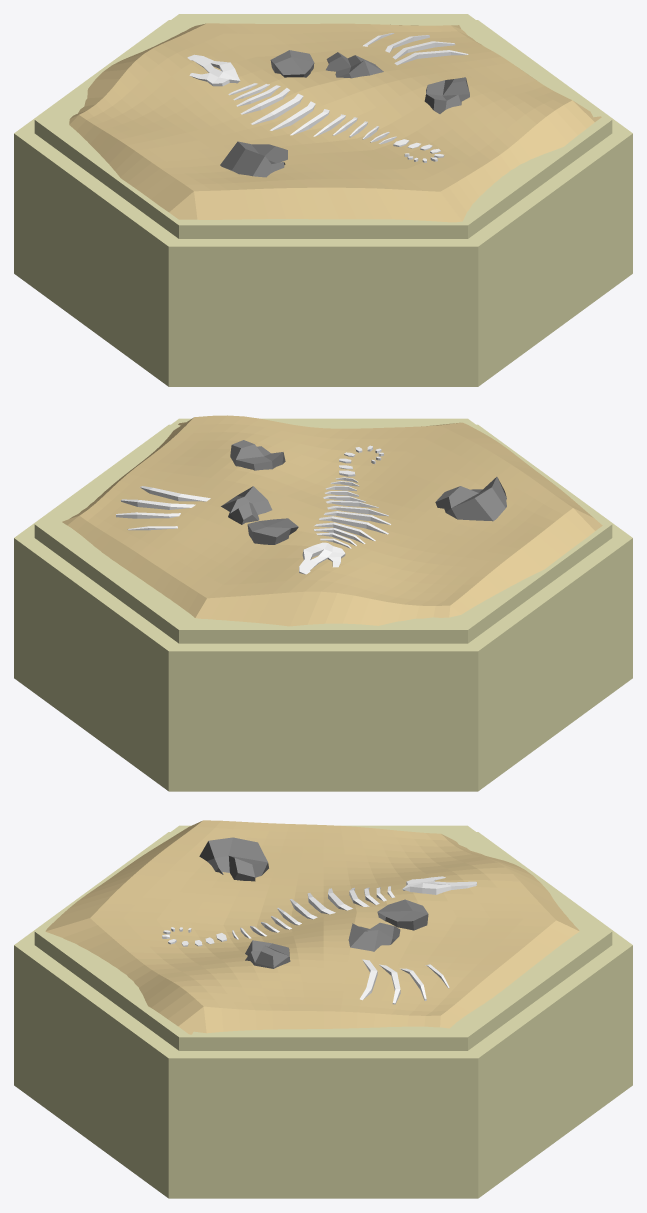
Rendered from fbx_desert.fbx.
3 renders of one model, top to bottom at view 1: azimuth 30°, elevation 25°; view 2: azimuth 150°, elevation 25°; view 3: azimuth 270°, elevation 25°, orthographic.
Parts seen in each view (by area): view 1: Desert, Sand, Skeleton, Cube; view 2: Desert, Sand, Skeleton, Cube; view 3: Desert, Sand, Cube, Skeleton.
Boxes of the visible parts, x1,y1,x2,y2 form: Desert: [14, 14, 632, 386]; Sand: [69, 23, 601, 222]; Skeleton: [187, 33, 468, 162]; Cube: [220, 50, 469, 177]; Desert: [14, 418, 632, 791]; Sand: [62, 415, 602, 626]; Skeleton: [116, 445, 390, 574]; Cube: [221, 440, 506, 544]; Desert: [14, 825, 632, 1198]; Sand: [45, 820, 579, 1034]; Cube: [199, 837, 428, 968]; Skeleton: [162, 876, 476, 1004].
Size of the model in its own units: 173 by 67.47 by 200.
